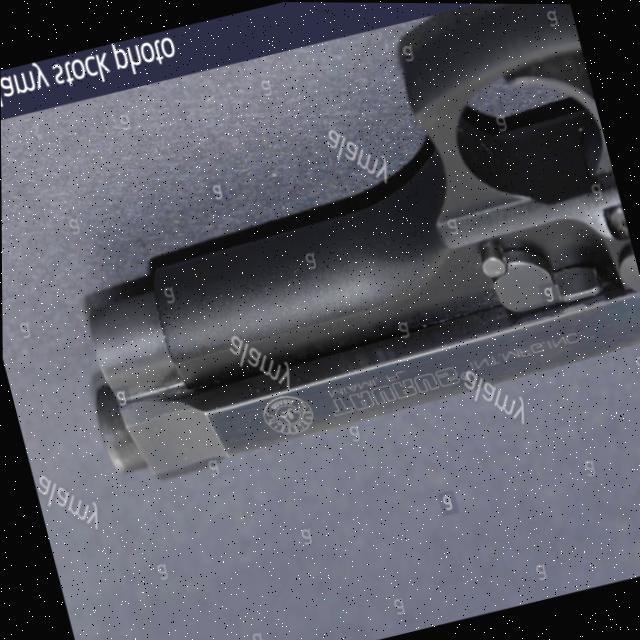pistol: (15, 0, 640, 507)
